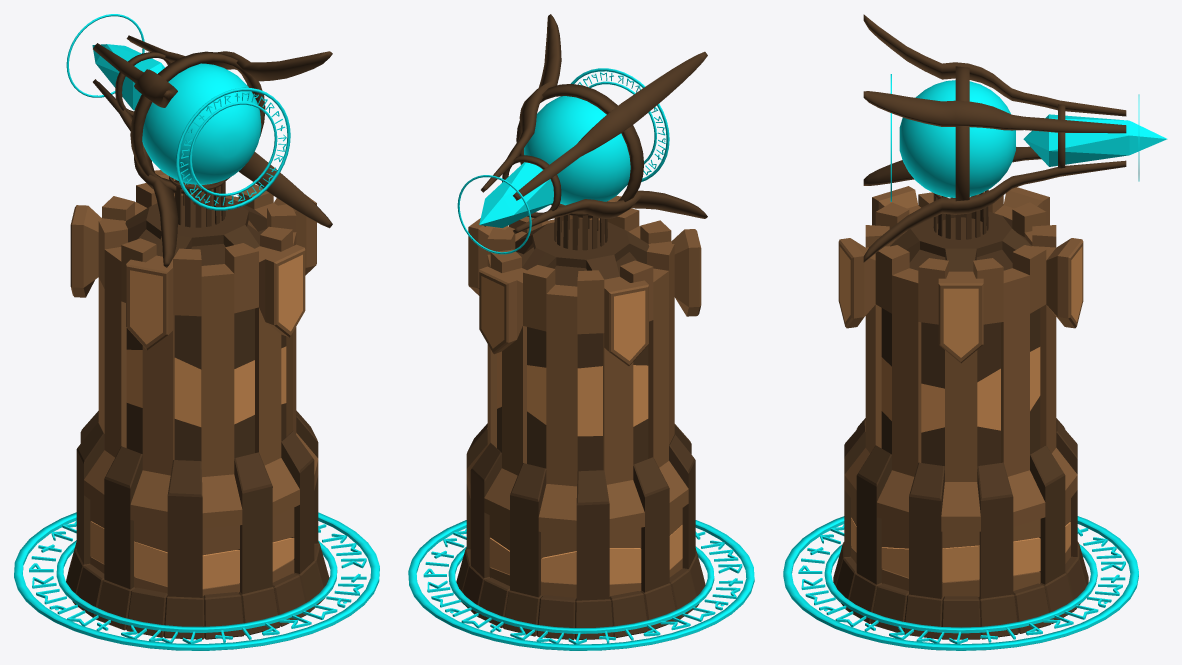
File: MagicTower_1(beta.V2).fbx
The picture shows the model from 3 angles, left to right: view 1: azimuth 30°, elevation 25°; view 2: azimuth 150°, elevation 25°; view 3: azimuth 270°, elevation 25°; orthographic projection. The views are drawn at different scales.
Visible parts, largest first — view 1: 1.Tower, polySurface28; view 2: 1.Tower, polySurface28; view 3: 1.Tower, polySurface28.
Boxes of the visible parts, box(x1,y1,x2,y2) form: 1.Tower: box(14, 170, 379, 650); polySurface28: box(66, 14, 332, 267); 1.Tower: box(408, 196, 754, 650); polySurface28: box(457, 14, 707, 254); 1.Tower: box(783, 186, 1138, 650); polySurface28: box(863, 14, 1167, 262).
Bounding box in the file's own units: 1.83 × 3.03 × 1.97.
